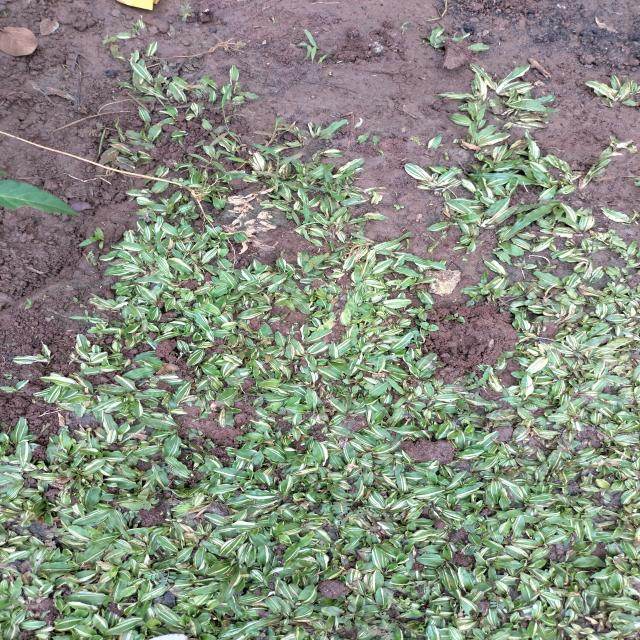bayi: (61, 424, 70, 432), (196, 278, 202, 285), (42, 424, 46, 429)
buah daun: (328, 498, 358, 528), (142, 565, 179, 588), (370, 611, 400, 634), (484, 590, 509, 614), (134, 206, 158, 224), (178, 1, 196, 24), (454, 407, 474, 425), (158, 463, 182, 477), (464, 375, 489, 387)
rambat atas: (290, 200, 336, 235), (221, 84, 244, 144), (300, 185, 355, 210), (250, 142, 294, 172), (184, 152, 228, 174), (220, 136, 242, 156), (302, 27, 321, 50), (272, 117, 286, 136), (302, 42, 312, 62), (308, 45, 318, 63)
rambat bawah: (466, 163, 555, 190), (508, 199, 570, 232), (76, 225, 109, 250)
tunggang besar: (294, 251, 328, 274), (116, 497, 162, 513)
ungu tunggang: (322, 593, 365, 623), (446, 310, 468, 324), (418, 321, 442, 333), (412, 306, 431, 320)
